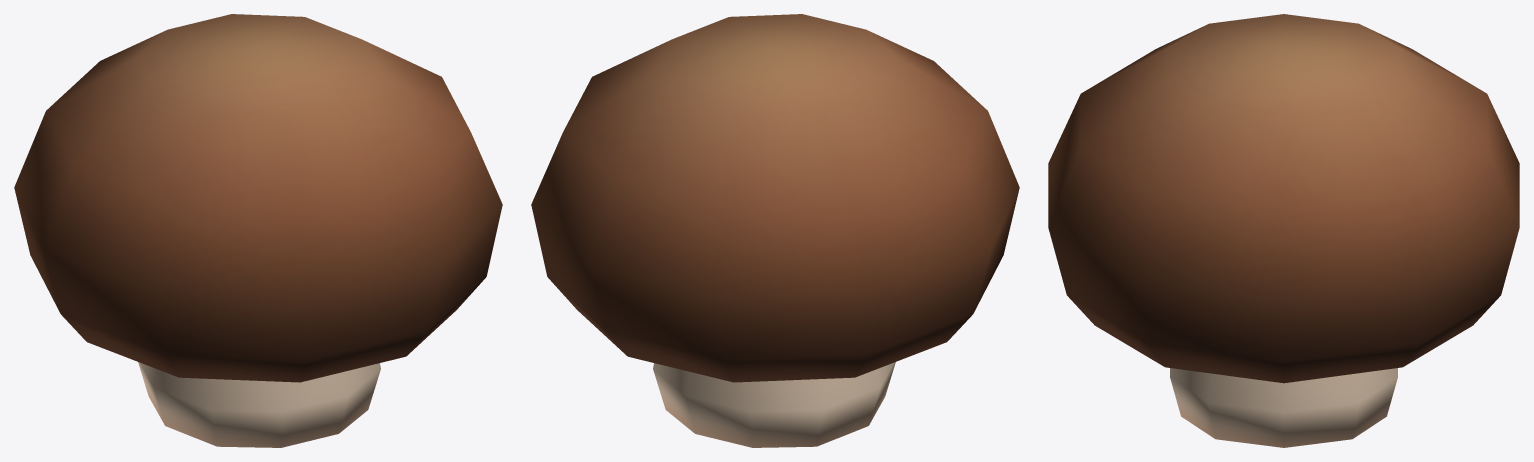
Rendered from Mushroom_Brown.fbx.
3 renders of one model, left to right at view 1: azimuth 30°, elevation 25°; view 2: azimuth 150°, elevation 25°; view 3: azimuth 270°, elevation 25°, orthographic.
Parts seen in each view (by area): view 1: Mushroom_Brown; view 2: Mushroom_Brown; view 3: Mushroom_Brown.
Boxes of the visible parts, x1,y1,x2,y2 form: Mushroom_Brown: (14, 14, 502, 447); Mushroom_Brown: (531, 14, 1019, 447); Mushroom_Brown: (1048, 14, 1519, 447).
Size of the model in its own units: 34.81 by 27.26 by 32.98.
